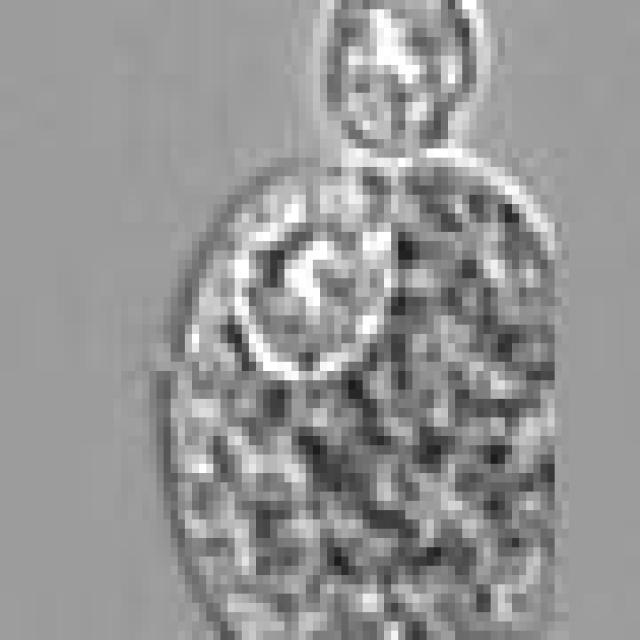Cancer Cell: (171, 157, 569, 640)
WBC: (320, 9, 491, 158)
